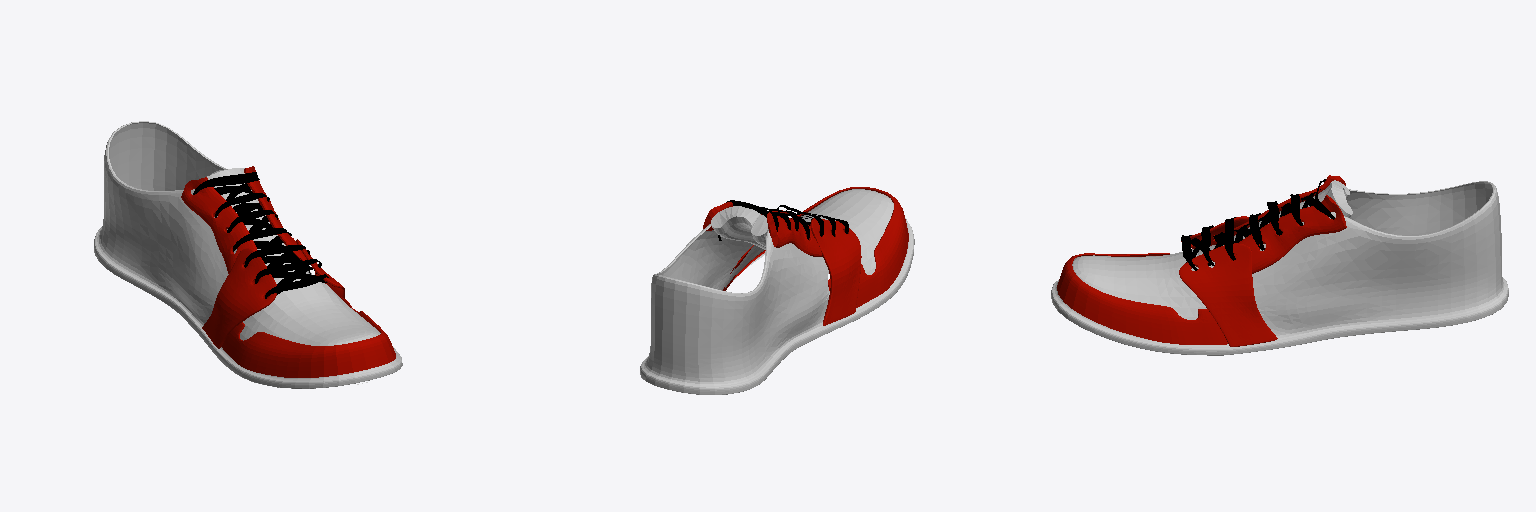
File: upper.obj
3 renders of one model, left to right at view 1: azimuth 30°, elevation 25°; view 2: azimuth 150°, elevation 25°; view 3: azimuth 270°, elevation 25°, orthographic.
Visible parts, largest first — view 1: body_Body.004, toe_cover_Toe_cover.001, laces_Shoerace2.001, side_cover_Side_cover.001, lateral_cover_Line.001, toung_Toung.001; view 2: body_Body.004, side_cover_Side_cover.001, toe_cover_Toe_cover.001, toung_Toung.001, lateral_cover_Line.001, laces_Shoerace2.001; view 3: body_Body.004, toe_cover_Toe_cover.001, side_cover_Side_cover.001, lateral_cover_Line.001, laces_Shoerace2.001, toung_Toung.001.
Part boxes in pixels (left/top/right/bottom): body_Body.004: left=94, top=121, right=402, bottom=388; toe_cover_Toe_cover.001: left=222, top=297, right=395, bottom=377; laces_Shoerace2.001: left=193, top=172, right=328, bottom=298; side_cover_Side_cover.001: left=202, top=239, right=344, bottom=348; lateral_cover_Line.001: left=181, top=166, right=306, bottom=273; toung_Toung.001: left=207, top=168, right=308, bottom=283; body_Body.004: left=640, top=189, right=914, bottom=394; side_cover_Side_cover.001: left=723, top=210, right=861, bottom=325; toe_cover_Toe_cover.001: left=724, top=187, right=908, bottom=307; toung_Toung.001: left=711, top=206, right=768, bottom=249; lateral_cover_Line.001: left=703, top=202, right=822, bottom=256; laces_Shoerace2.001: left=718, top=200, right=848, bottom=240; body_Body.004: left=1051, top=181, right=1508, bottom=355; toe_cover_Toe_cover.001: left=1057, top=253, right=1261, bottom=344; side_cover_Side_cover.001: left=1179, top=216, right=1277, bottom=346; lateral_cover_Line.001: left=1230, top=175, right=1346, bottom=273; laces_Shoerace2.001: left=1181, top=179, right=1334, bottom=270; toung_Toung.001: left=1198, top=180, right=1352, bottom=267.
Bounding box in the file's own units: 89.86 × 82.99 × 253.